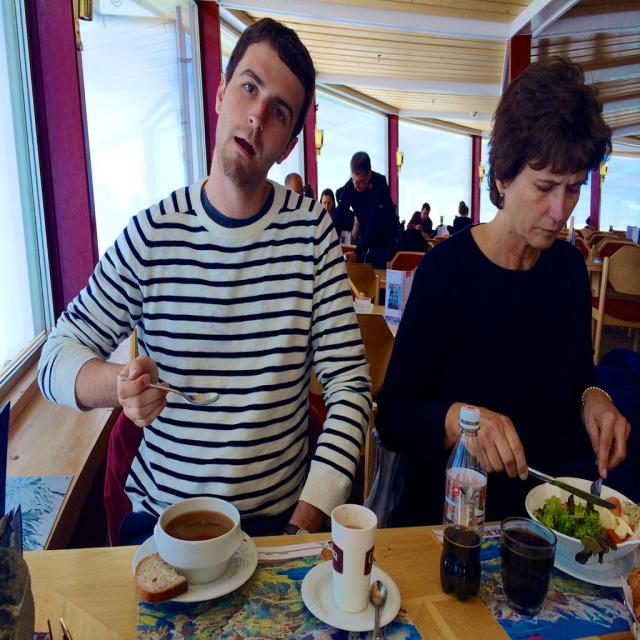Coffee: (166, 509, 232, 539), (344, 520, 366, 530)
Tea: (346, 524, 364, 528)
